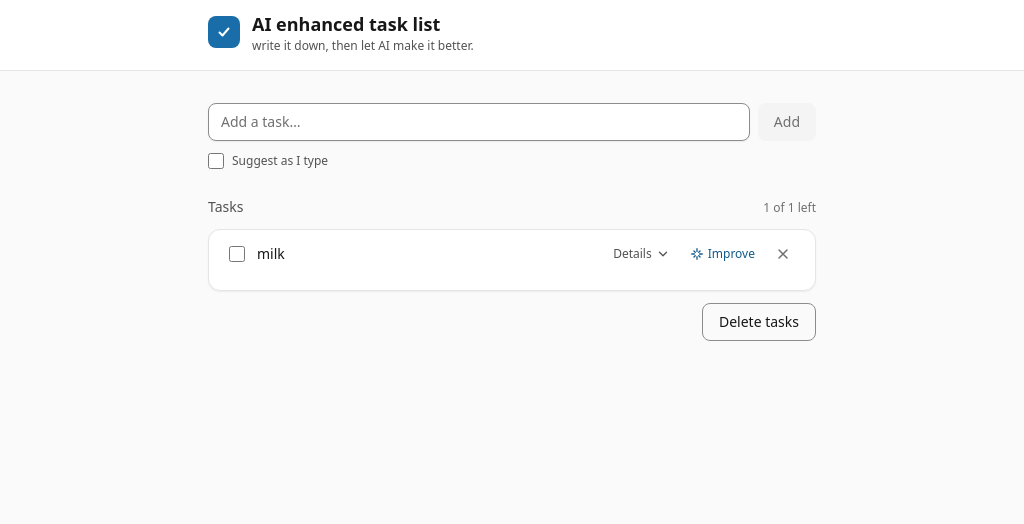
Test: App AI suggestions › keeps the tips and category but not the name with "Use these tips"
Click the button named "Improve \"milk\" with AI" at (722, 254), box [682, 238, 763, 270]
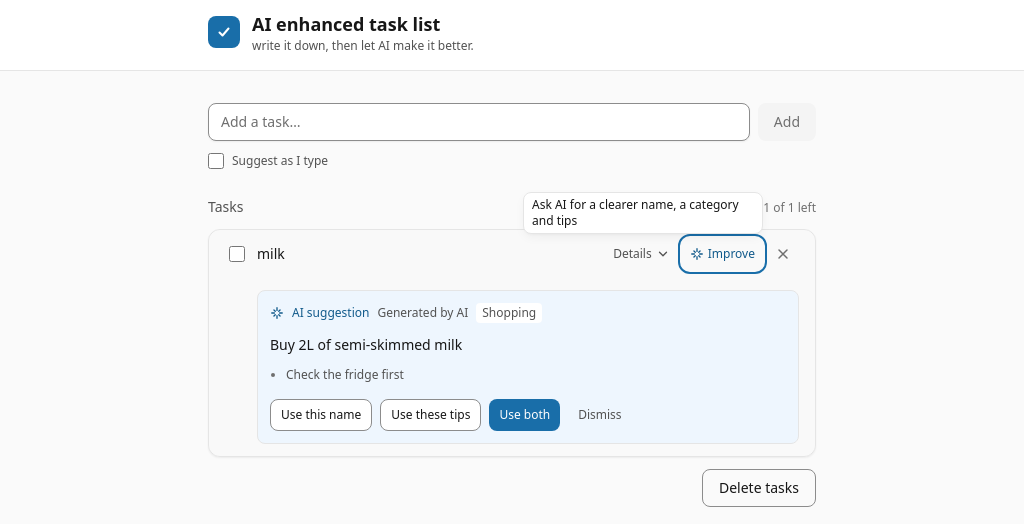
Click the button "Use these tips" at (431, 415), box [380, 399, 481, 431]
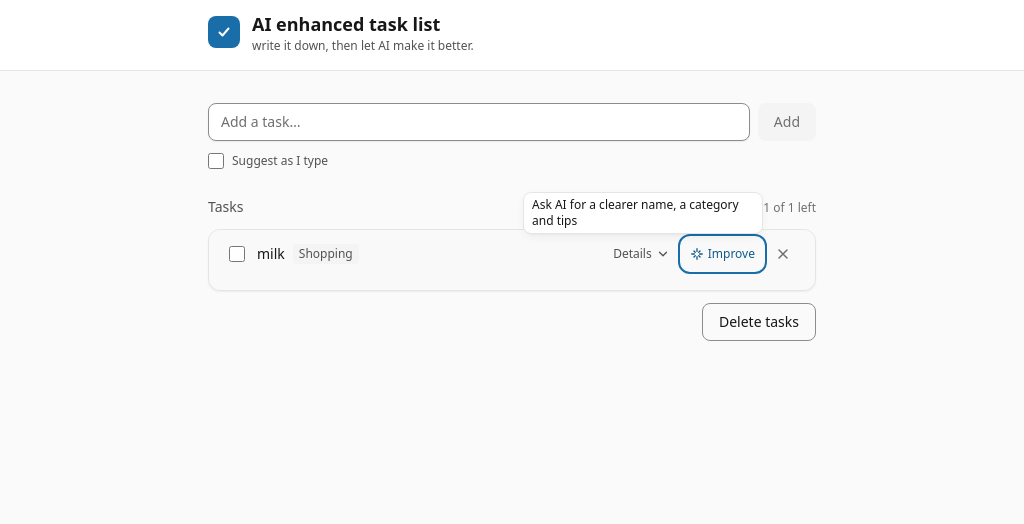
Expected: the text "AI suggestion" is gone
